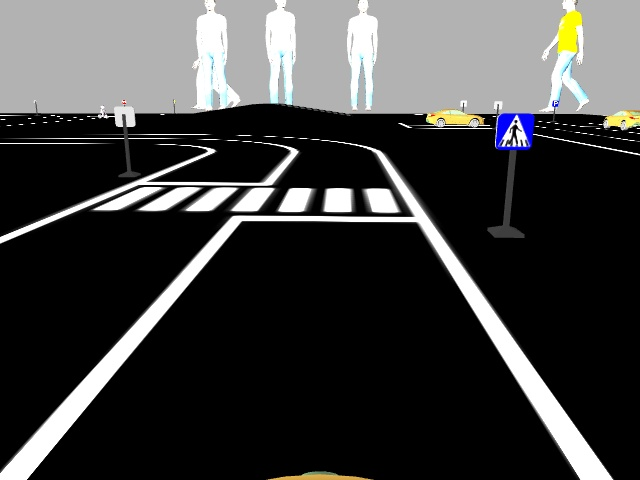Crosswalk: (495, 112, 534, 151)
